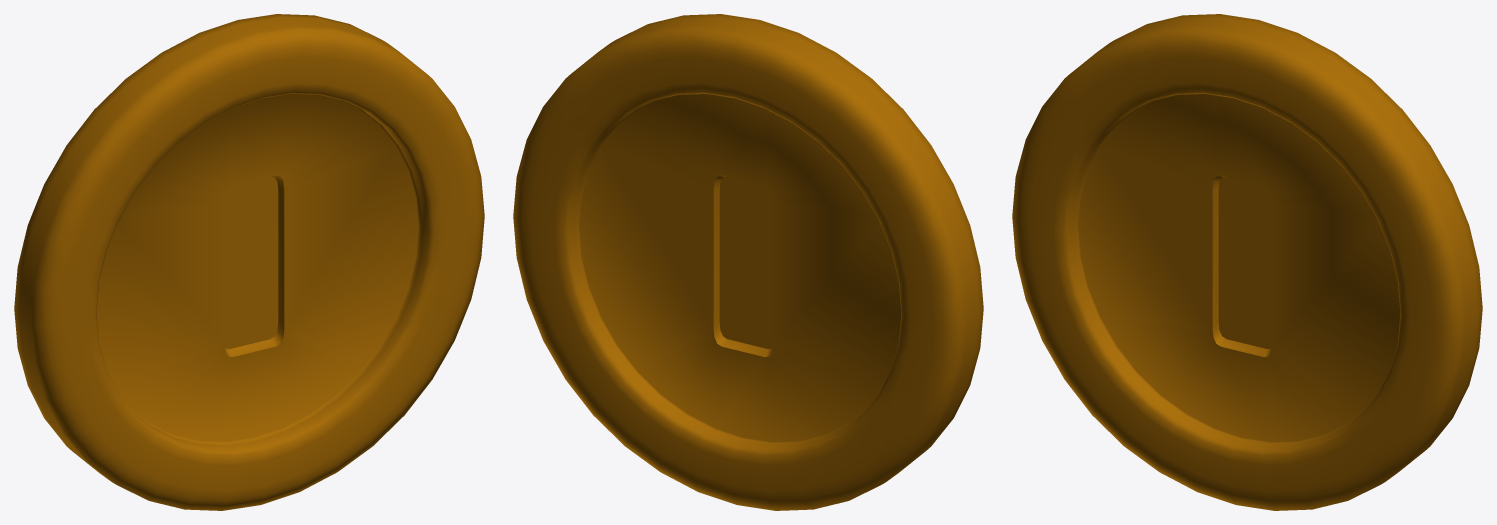
The model's file is Coin.fbx.
3 renders of one model, left to right at view 1: azimuth 30°, elevation 25°; view 2: azimuth 150°, elevation 25°; view 3: azimuth 330°, elevation 25°, orthographic.
Visible parts, largest first — view 1: Cylinder001; view 2: Cylinder001; view 3: Cylinder001.
Boxes of the visible parts, <box> form: Cylinder001: <box>14,14,484,510</box>; Cylinder001: <box>513,14,983,510</box>; Cylinder001: <box>1012,14,1482,510</box>.
Size of the model in its own units: 293 by 293 by 36.28.
